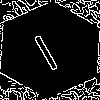I: (25, 25, 62, 72)
